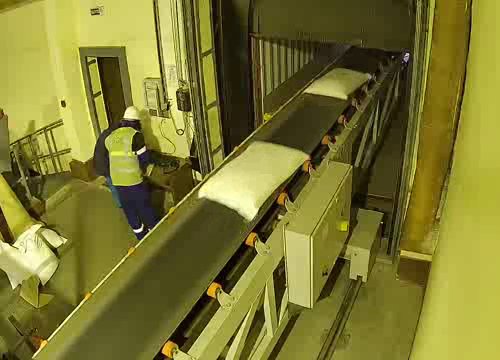bag: (189, 132, 316, 224), (300, 63, 380, 103)
